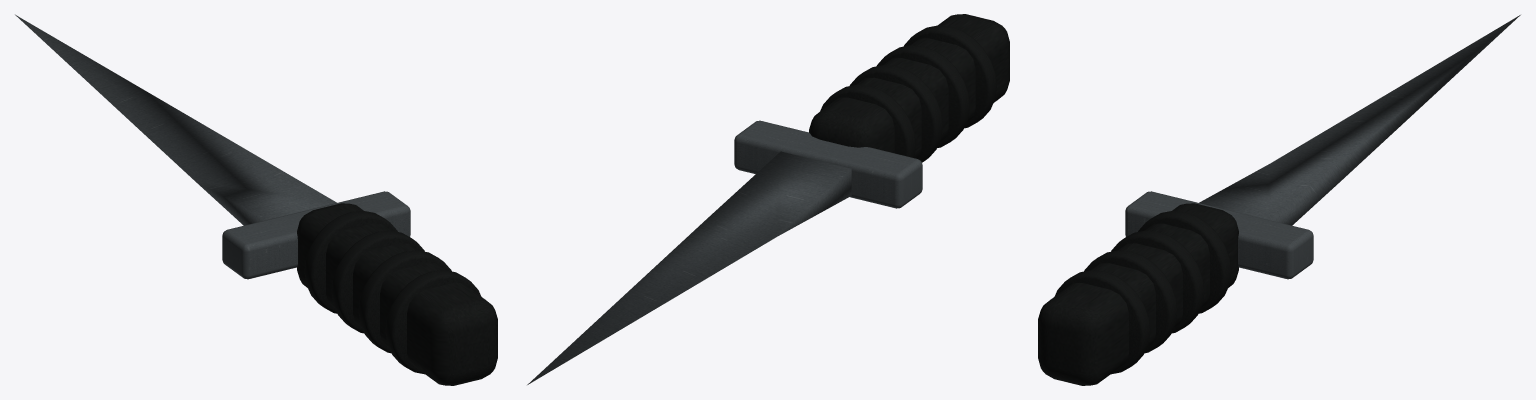
Rendered from knife.glb.
3 renders of one model, left to right at view 1: azimuth 30°, elevation 25°; view 2: azimuth 150°, elevation 25°; view 3: azimuth 330°, elevation 25°, orthographic.
Visible parts, largest first — view 1: weapon_Polymer, weapon_Machined edges; view 2: weapon_Machined edges, weapon_Polymer; view 3: weapon_Polymer, weapon_Machined edges.
Boxes of the visible parts, x1,y1,x2,y2 form: weapon_Polymer: [297, 203, 497, 385]; weapon_Machined edges: [15, 14, 410, 279]; weapon_Machined edges: [527, 120, 922, 384]; weapon_Polymer: [809, 14, 1009, 162]; weapon_Polymer: [1038, 203, 1238, 385]; weapon_Machined edges: [1125, 15, 1520, 279].
Size of the model in its own units: 0.09 by 0.05 by 0.425.
Materials: 2 (2 with a texture image).
